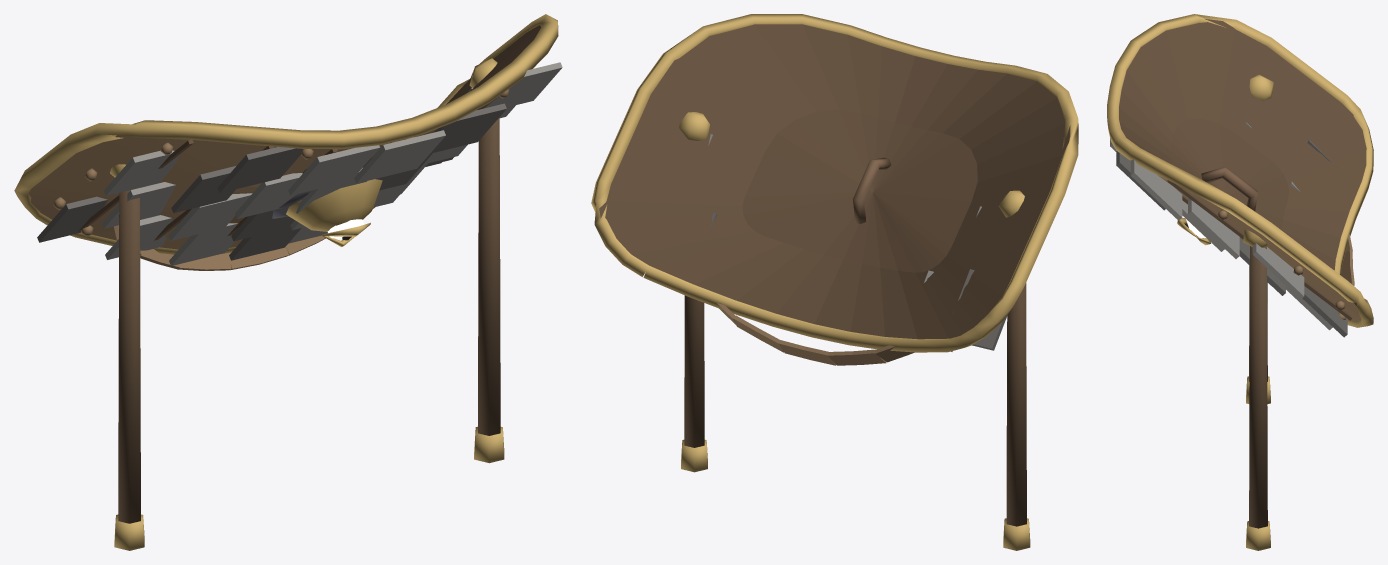
The model's file is shield-roof.glb.
The picture shows the model from 3 angles, left to right: view 1: azimuth 30°, elevation 25°; view 2: azimuth 150°, elevation 25°; view 3: azimuth 270°, elevation 25°; orthographic projection. The views are drawn at different scales.
Visible parts, largest first — view 1: shield-roof; view 2: shield-roof; view 3: shield-roof.
Boxes of the visible parts, x1,y1,x2,y2 form: shield-roof: (14,14,562,550); shield-roof: (591,14,1078,550); shield-roof: (1107,14,1373,550).
Bounding box in the file's own units: 1.66 × 1.53 × 0.9731.
